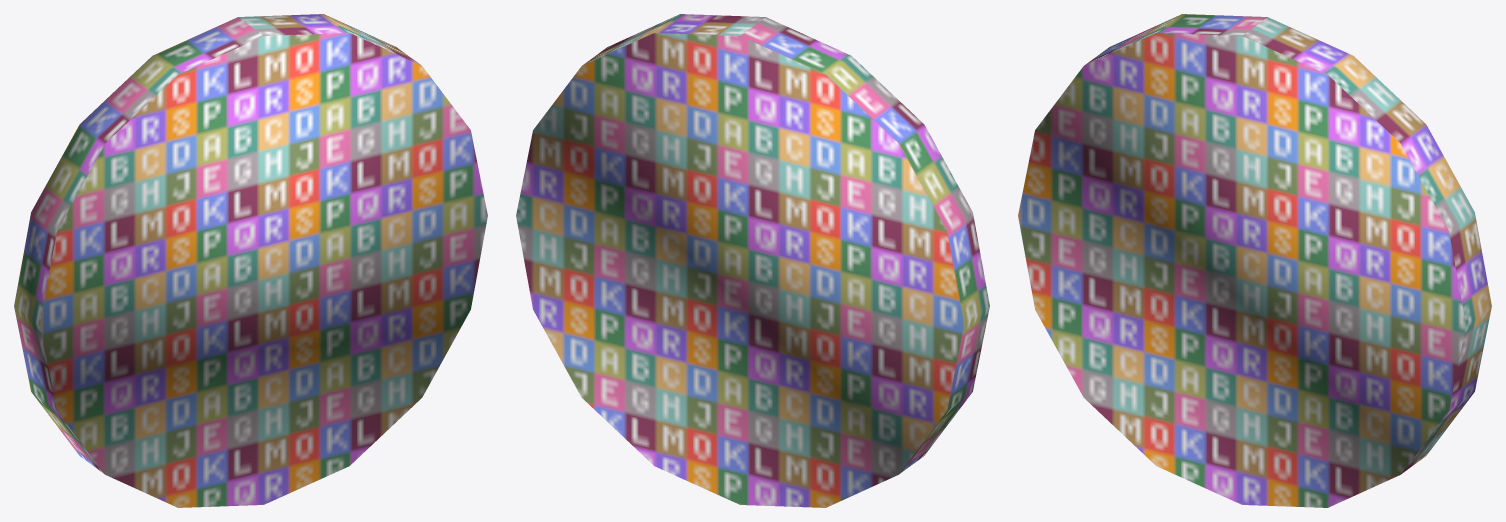
Rendered from coin.dae.
The picture shows the model from 3 angles, left to right: view 1: azimuth 30°, elevation 25°; view 2: azimuth 150°, elevation 25°; view 3: azimuth 330°, elevation 25°; orthographic projection.
Visible parts, largest first — view 1: Cylinder1-0; view 2: Cylinder1-0; view 3: Cylinder1-0.
Part boxes in pixels (bbox=[...]): Cylinder1-0: bbox=[14, 14, 487, 507]; Cylinder1-0: bbox=[516, 14, 989, 507]; Cylinder1-0: bbox=[1018, 14, 1491, 507].
Bounding box in the file's own units: 2 × 2 × 0.2.
